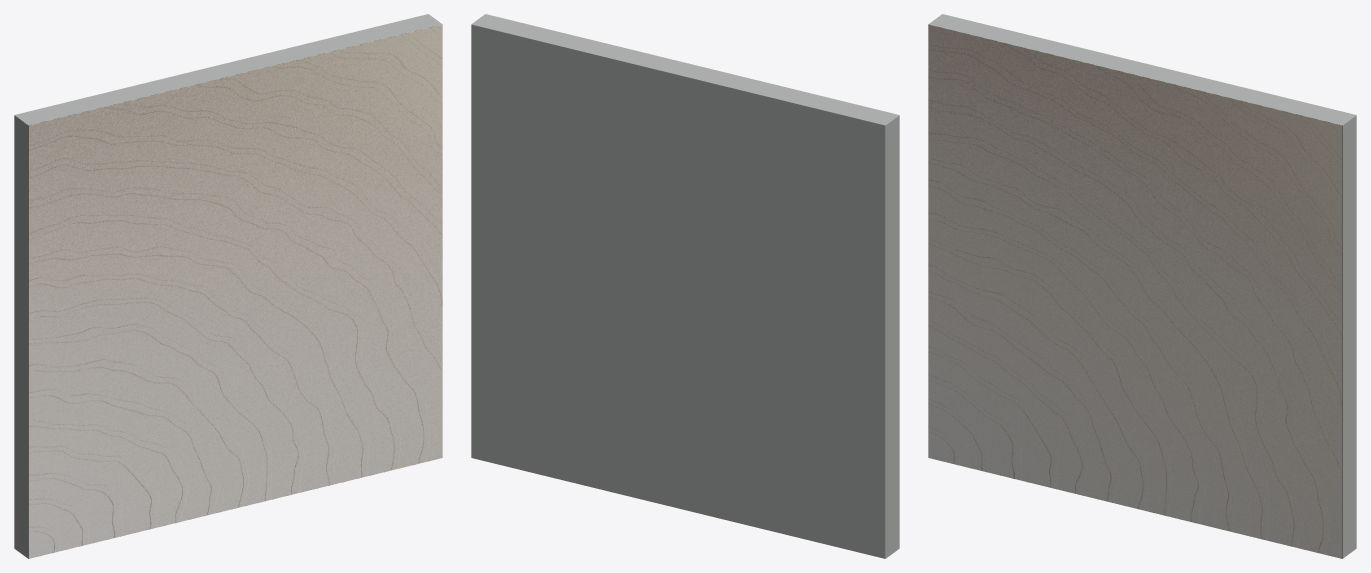
Rendered from Wallposter .glb.
3 views of the same model, side by side, from view 1: azimuth 30°, elevation 25°; view 2: azimuth 150°, elevation 25°; view 3: azimuth 330°, elevation 25° (orthographic).
Parts seen in each view (by area): view 1: wall poster; view 2: wall poster; view 3: wall poster.
Boxes of the visible parts, box(x1,y1,x2,y2) form: wall poster: box(14, 14, 442, 558); wall poster: box(471, 14, 899, 558); wall poster: box(928, 14, 1356, 558).
Size of the model in its own units: 1.78 by 1.78 by 0.1068.
2 materials, 1 textured.
